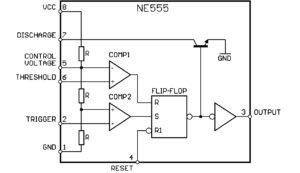bistable flip-flop: (152, 96, 187, 137)
comparator1: (109, 61, 131, 90), (109, 103, 131, 132)
discharge circuit: (193, 39, 209, 47)
output circuit: (209, 102, 237, 132)
reset circuit: (133, 154, 142, 168)
resistance: (79, 88, 84, 103), (79, 46, 84, 60), (79, 130, 83, 144)
